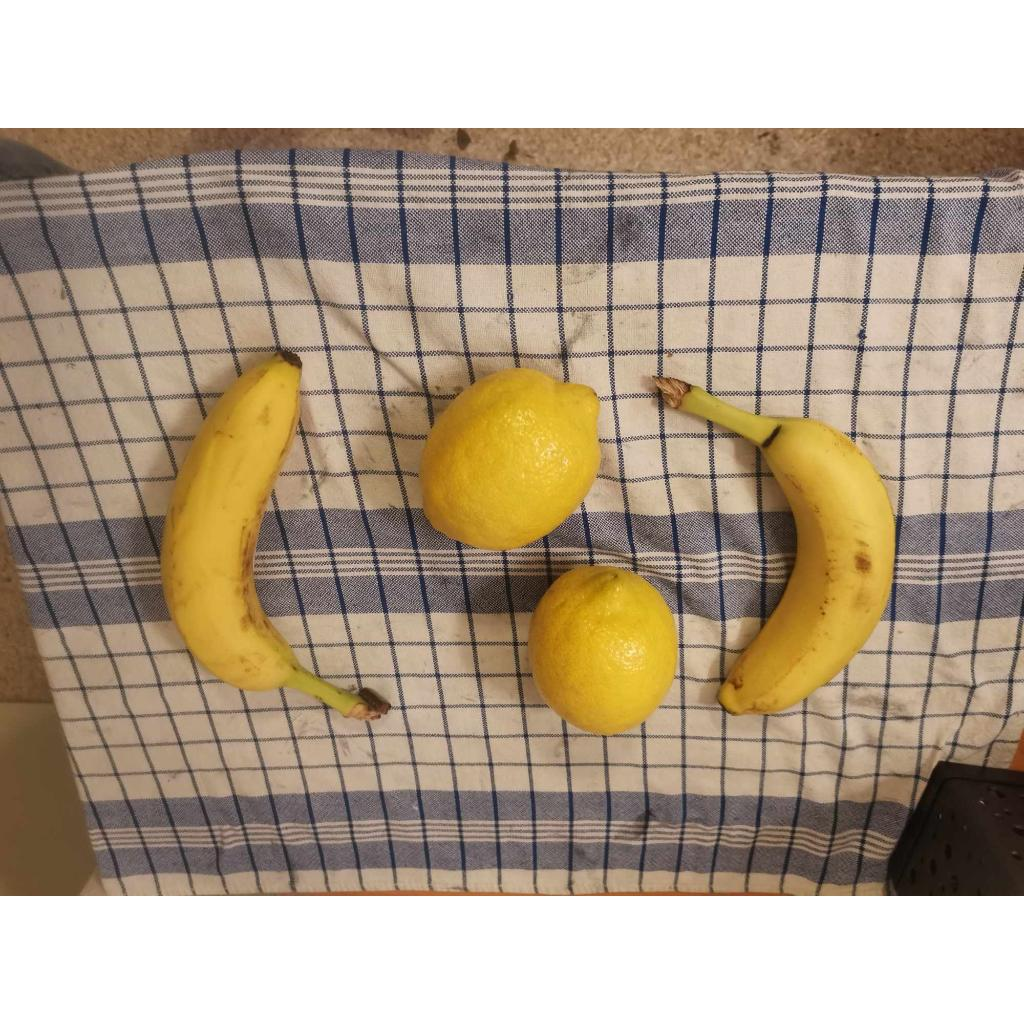banana: (652, 378, 898, 717), (160, 357, 388, 721)
lemon: (419, 368, 604, 553), (527, 567, 679, 738)
